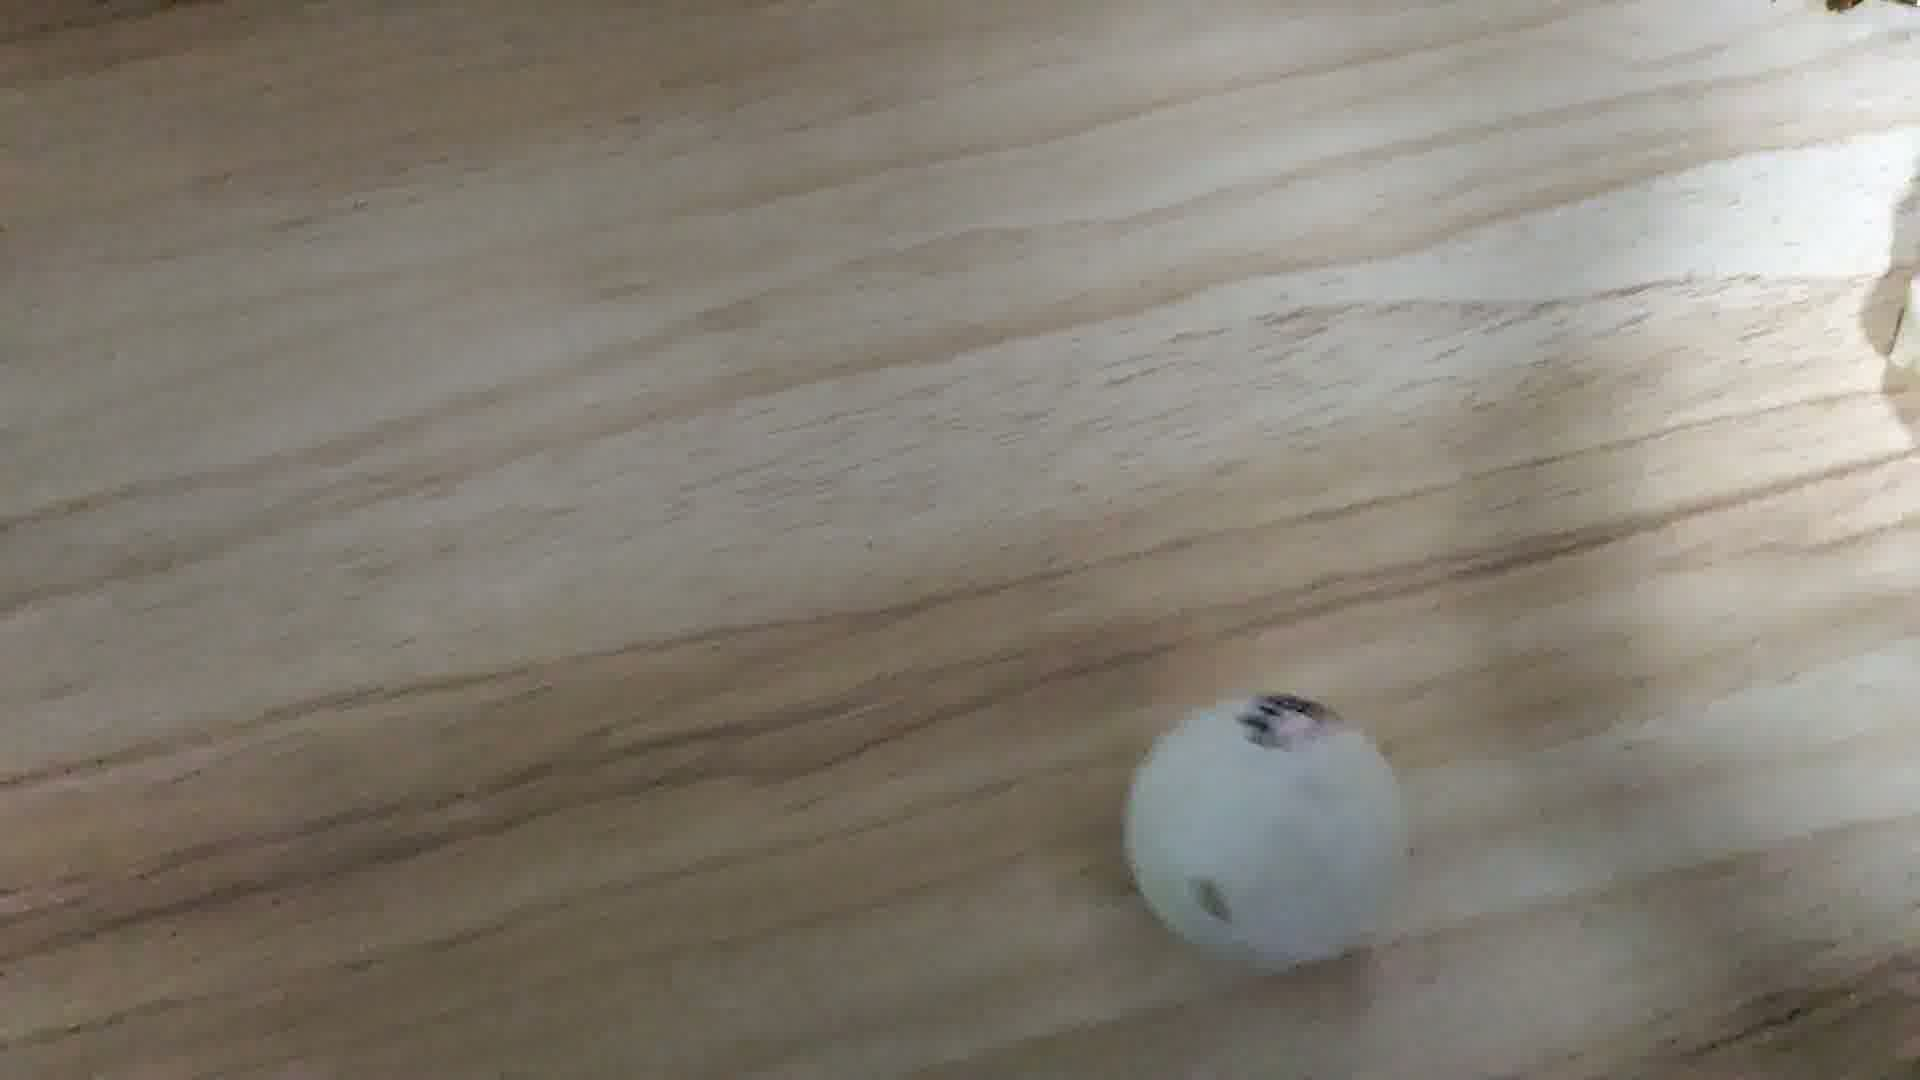Ball: (1127, 684, 1418, 967)
